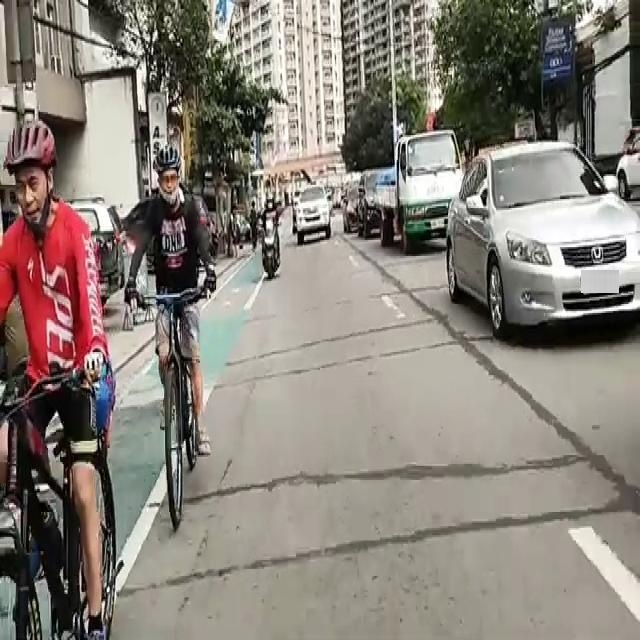car: (448, 157, 634, 336), (297, 191, 333, 245)
motorcycle: (264, 195, 282, 280)
truck: (371, 148, 457, 254)
